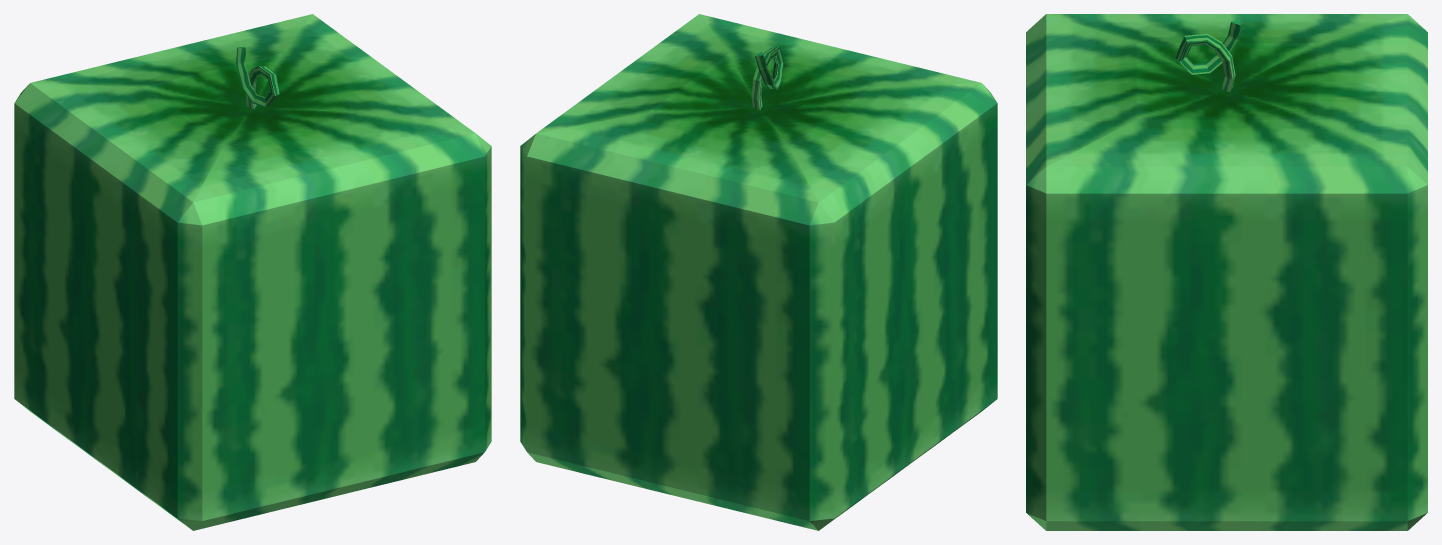
File: watermelonblock.dae
3 renders of one model, left to right at view 1: azimuth 30°, elevation 25°; view 2: azimuth 150°, elevation 25°; view 3: azimuth 270°, elevation 25°, orthographic. The views are drawn at different scales.
Visible parts, largest first — view 1: m0; view 2: m0; view 3: m0.
Part boxes in pixels (left/top/right/bottom): m0: left=14, top=14, right=491, bottom=530; m0: left=520, top=14, right=997, bottom=530; m0: left=1026, top=14, right=1427, bottom=530.
Size of the model in its own units: 200 by 246 by 200.
